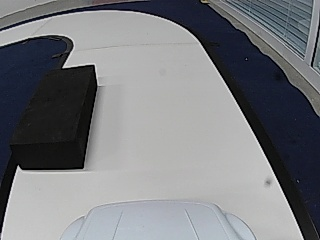block: (11, 65, 97, 170)
